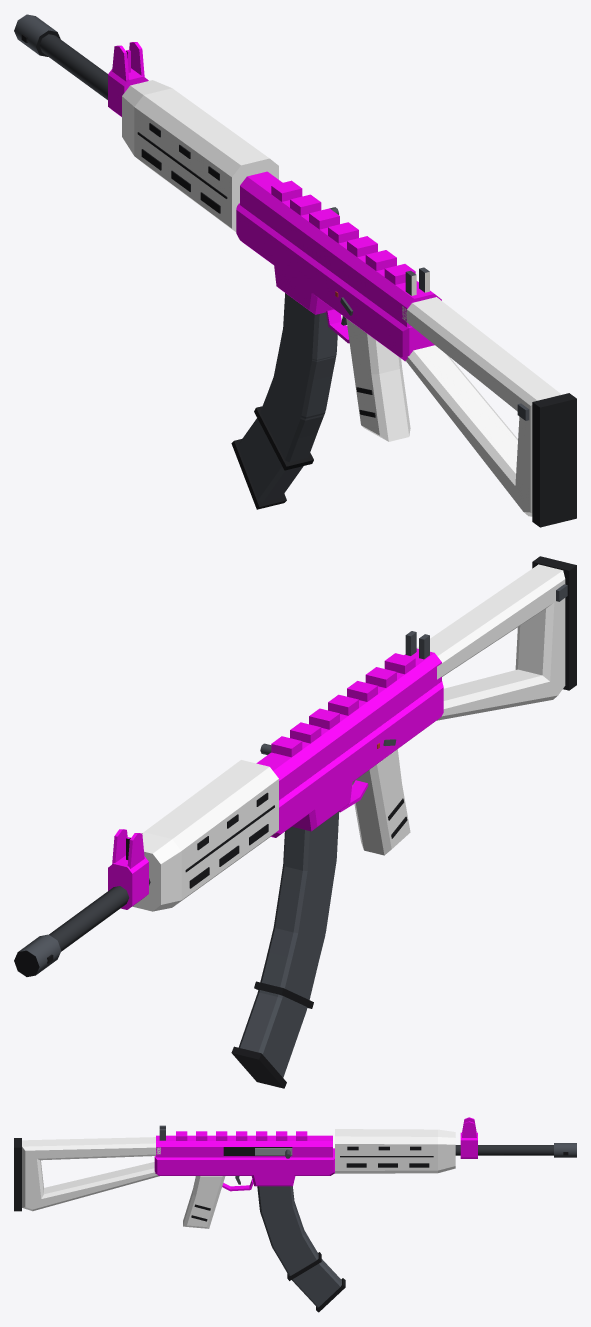
File: rifle_assault.glb
3 renders of one model, top to bottom at view 1: azimuth 30°, elevation 25°; view 2: azimuth 150°, elevation 25°; view 3: azimuth 270°, elevation 25°, orthographic. The views are drawn at different scales.
Parts seen in each view (by area): view 1: rifle_assault__body, rifle_assault__mag, rifle_assault__mag_ext; view 2: rifle_assault__body, rifle_assault__mag_ext, rifle_assault__mag; view 3: rifle_assault__body, rifle_assault__mag_ext, rifle_assault__mag, rifle_assault__bolt.
Part boxes in pixels (x1=…): rifle_assault__body: x1=14, y1=14, x2=576, y2=527; rifle_assault__mag: x1=254, y1=293, x2=337, y2=470; rifle_assault__mag_ext: x1=231, y1=298, x2=336, y2=509; rifle_assault__body: x1=14, y1=556, x2=576, y2=976; rifle_assault__mag_ext: x1=231, y1=826, x2=336, y2=1088; rifle_assault__mag: x1=254, y1=811, x2=339, y2=1008; rifle_assault__body: x1=14, y1=1117, x2=576, y2=1228; rifle_assault__mag_ext: x1=259, y1=1186, x2=345, y2=1312; rifle_assault__mag: x1=257, y1=1186, x2=321, y2=1280; rifle_assault__bolt: x1=255, y1=1148, x2=292, y2=1158.
Bounding box in the file's own units: 0.06 × 0.3342 × 0.9.
Materials: 1 (1 with a texture image).
